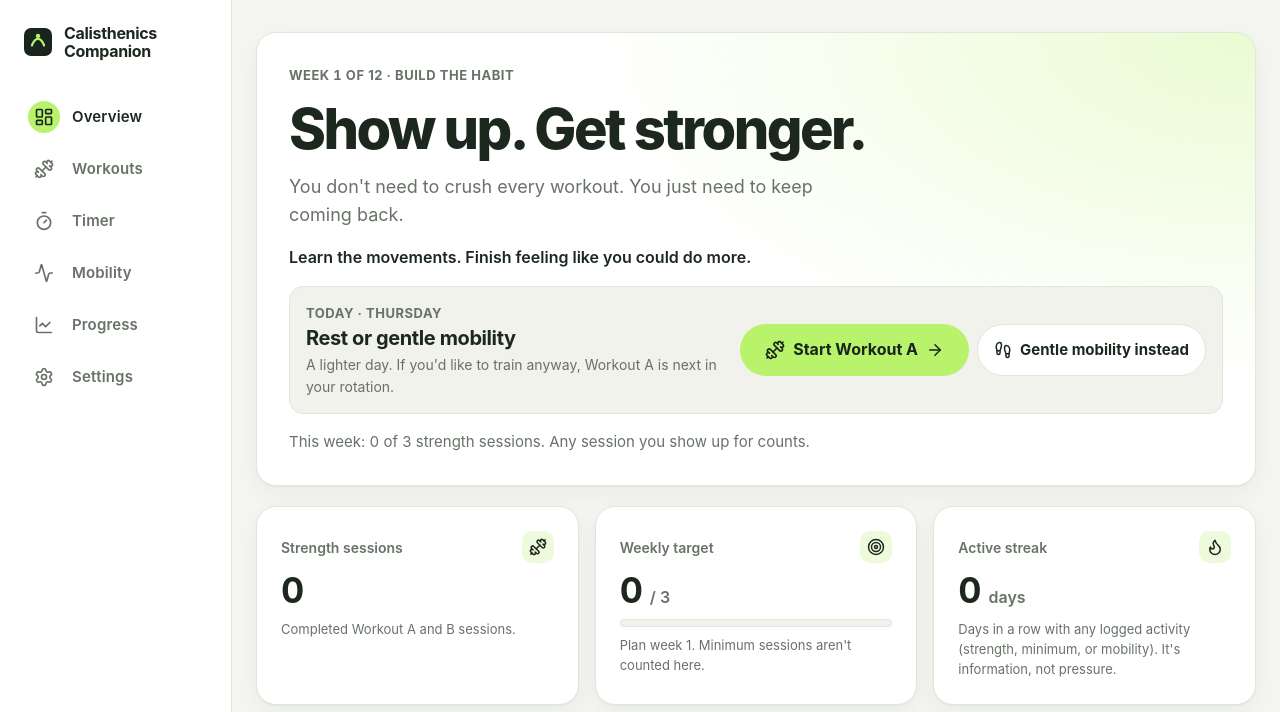
Test: Calisthenics Companion app › shows the right exercises for Workout A and B
This screenshot has width=1280, height=712.
Click the link "Workouts": [88, 169] box [34,159,143,179]
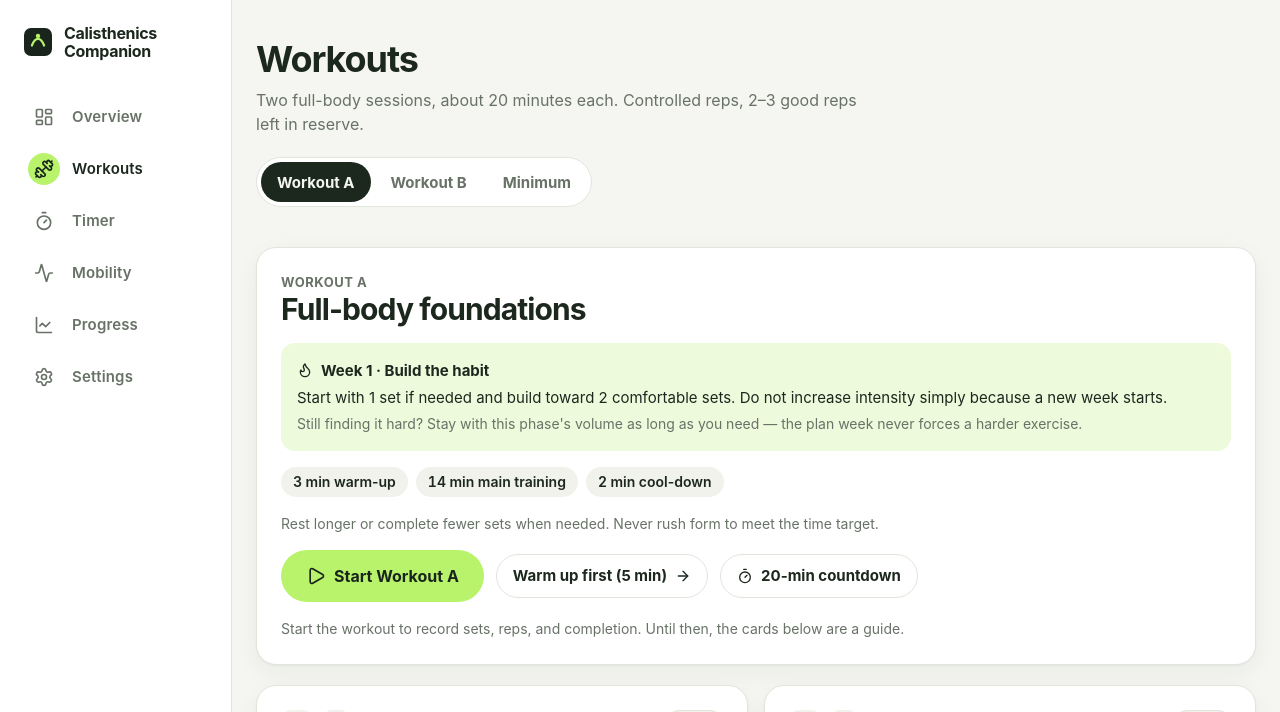
Click the tab "Workout B": [429, 182] box [374,162,483,202]
(page scrolled)
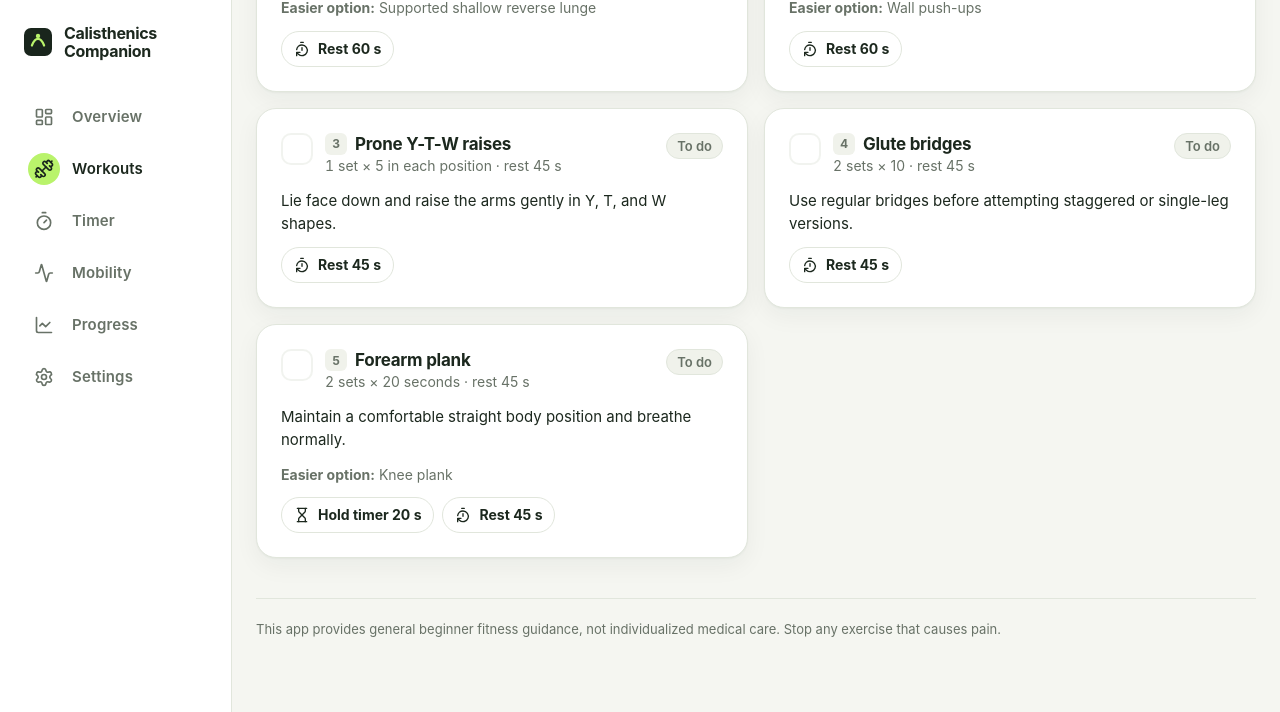
Check: the heading "5 Forearm plank" is shown, box [325,349,470,371]
